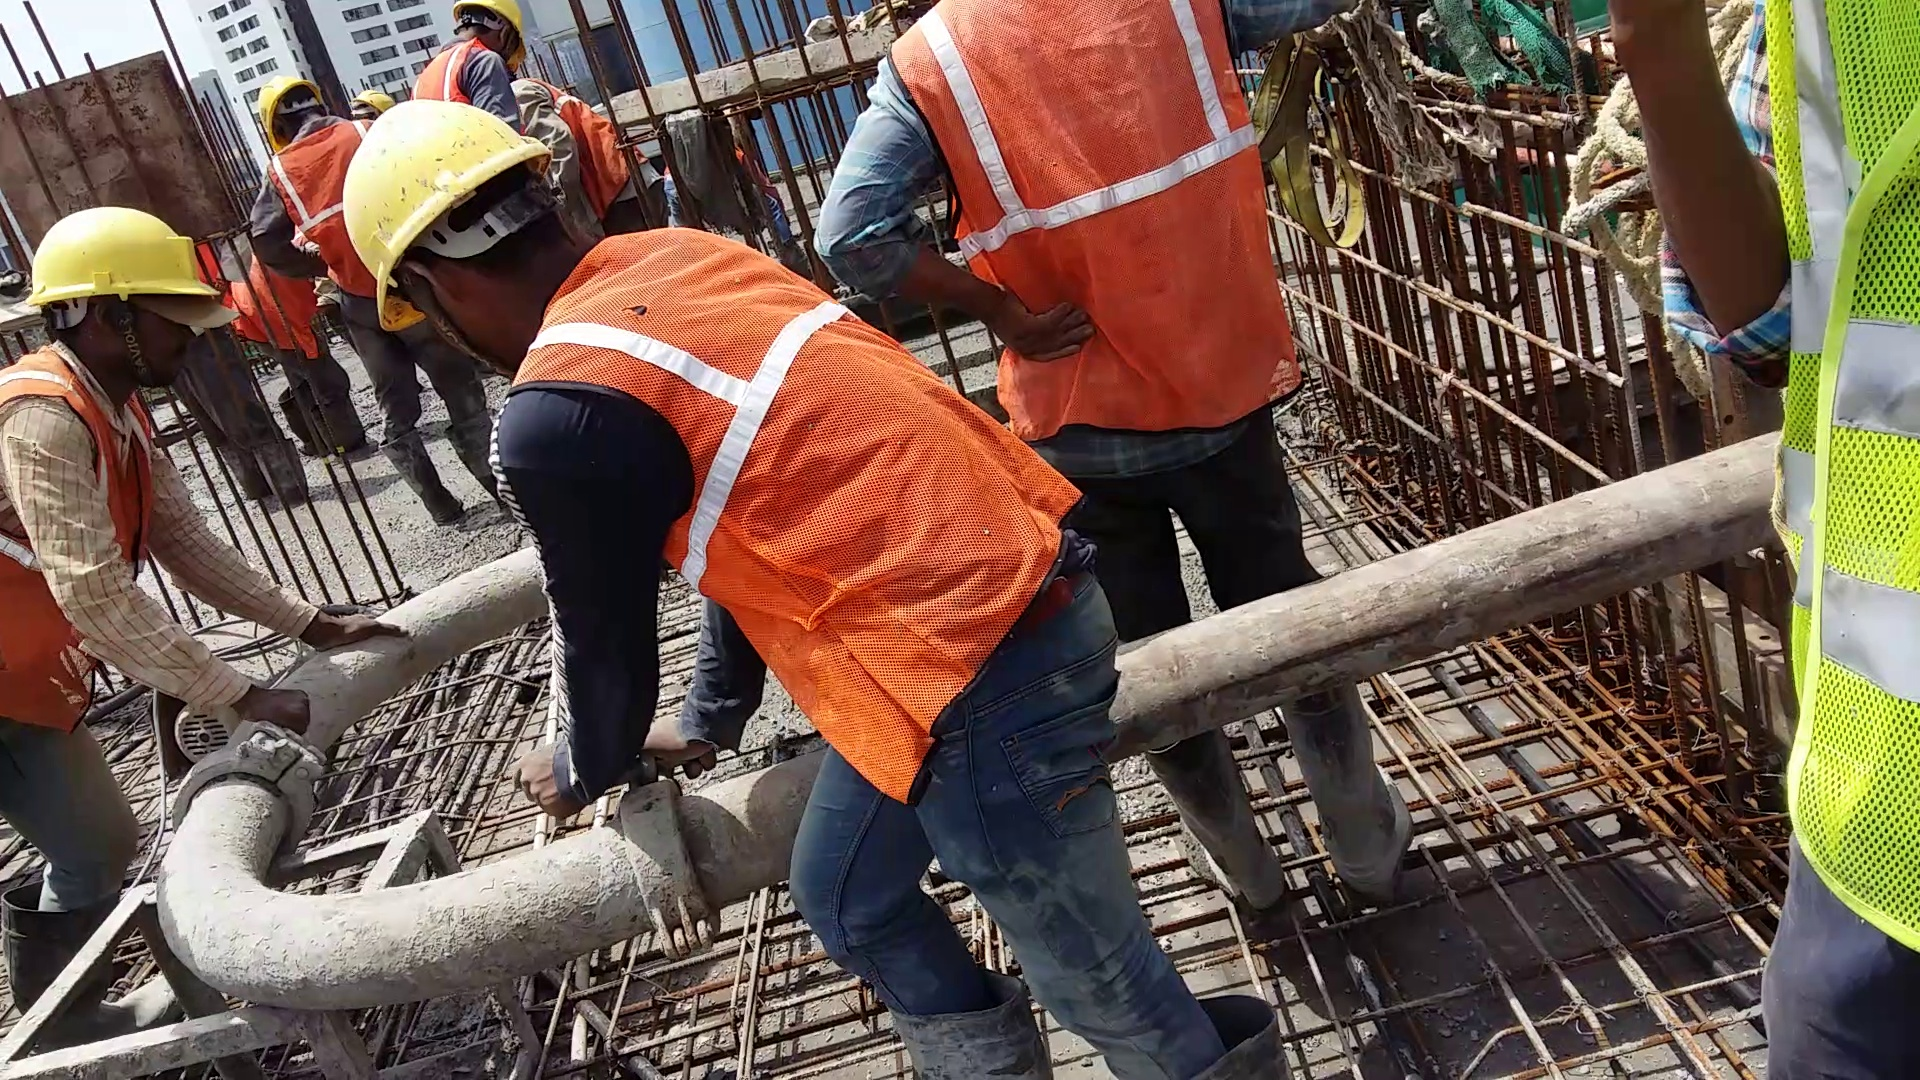SAFE: (338, 102, 1044, 563), (1, 198, 191, 712), (256, 69, 349, 351)
